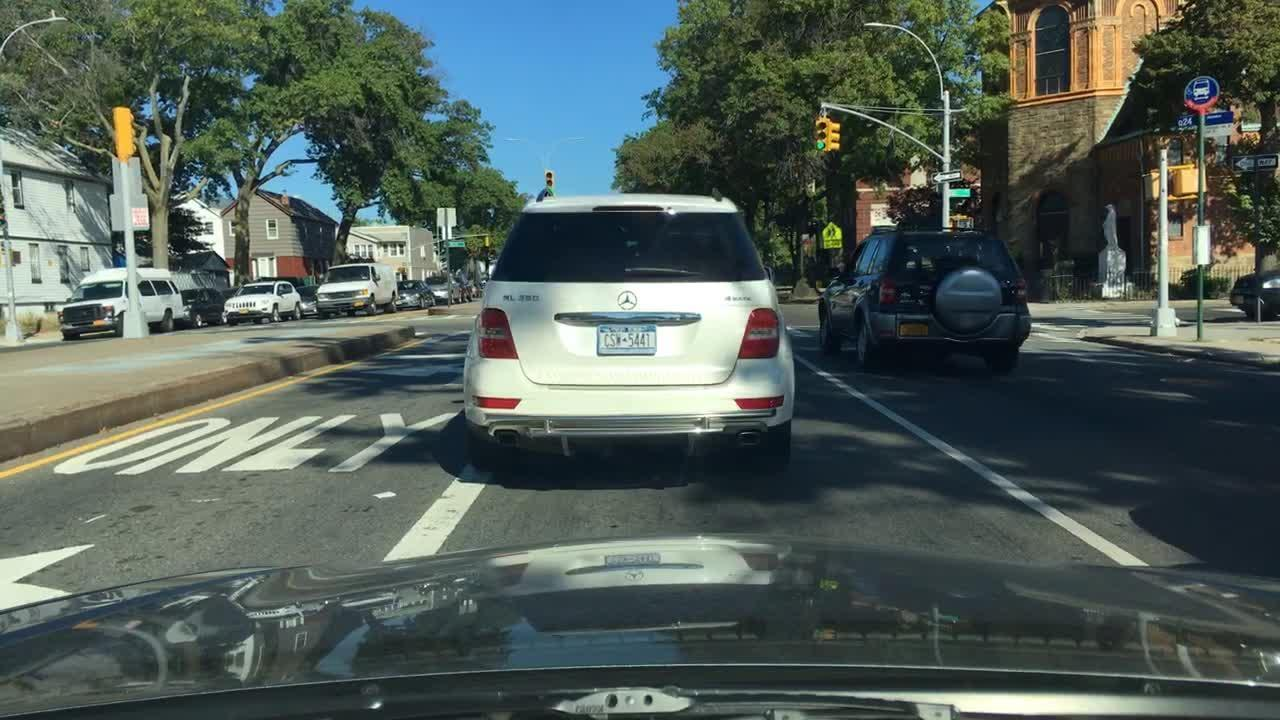Mercedes: (610, 282, 649, 320)
